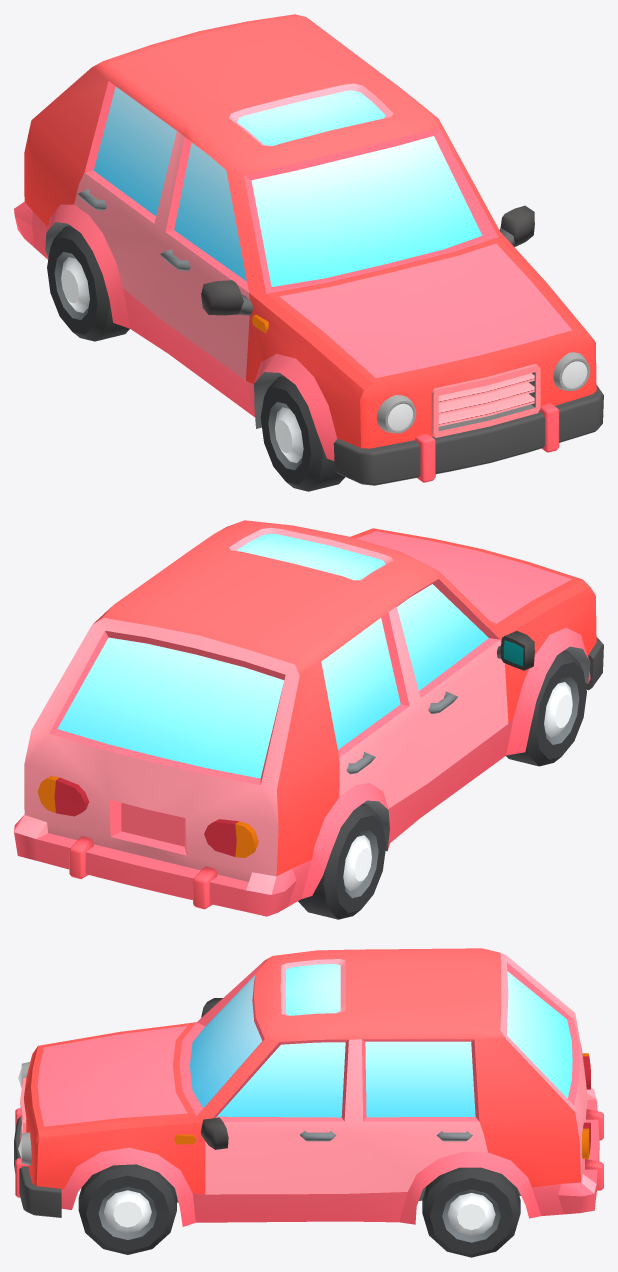
The model's file is city2-car-12.glb.
The picture shows the model from 3 angles, top to bottom: view 1: azimuth 30°, elevation 25°; view 2: azimuth 150°, elevation 25°; view 3: azimuth 270°, elevation 25°; orthographic projection. The views are drawn at different scales.
Parts seen in each view (by area): view 1: Car_12, Wheel_013, Wheel_014; view 2: Car_12, Wheel_014, Wheel_013; view 3: Car_12, Wheel_016, Wheel_015.
Boxes of the visible parts, left/top/right/bottom form: Car_12: left=14, top=14, right=603, bottom=485; Wheel_013: left=260, top=375, right=345, bottom=491; Wheel_014: left=47, top=225, right=129, bottom=341; Car_12: left=14, top=520, right=603, bottom=916; Wheel_014: left=298, top=803, right=386, bottom=919; Wheel_013: left=506, top=650, right=586, bottom=766; Car_12: left=14, top=948, right=603, bottom=1226; Wheel_016: left=422, top=1167, right=520, bottom=1257; Wheel_015: left=78, top=1164, right=176, bottom=1254.
Bounding box in the file's own units: 2.43 × 1.88 × 4.57.
Materials: 2 (2 with a texture image).
